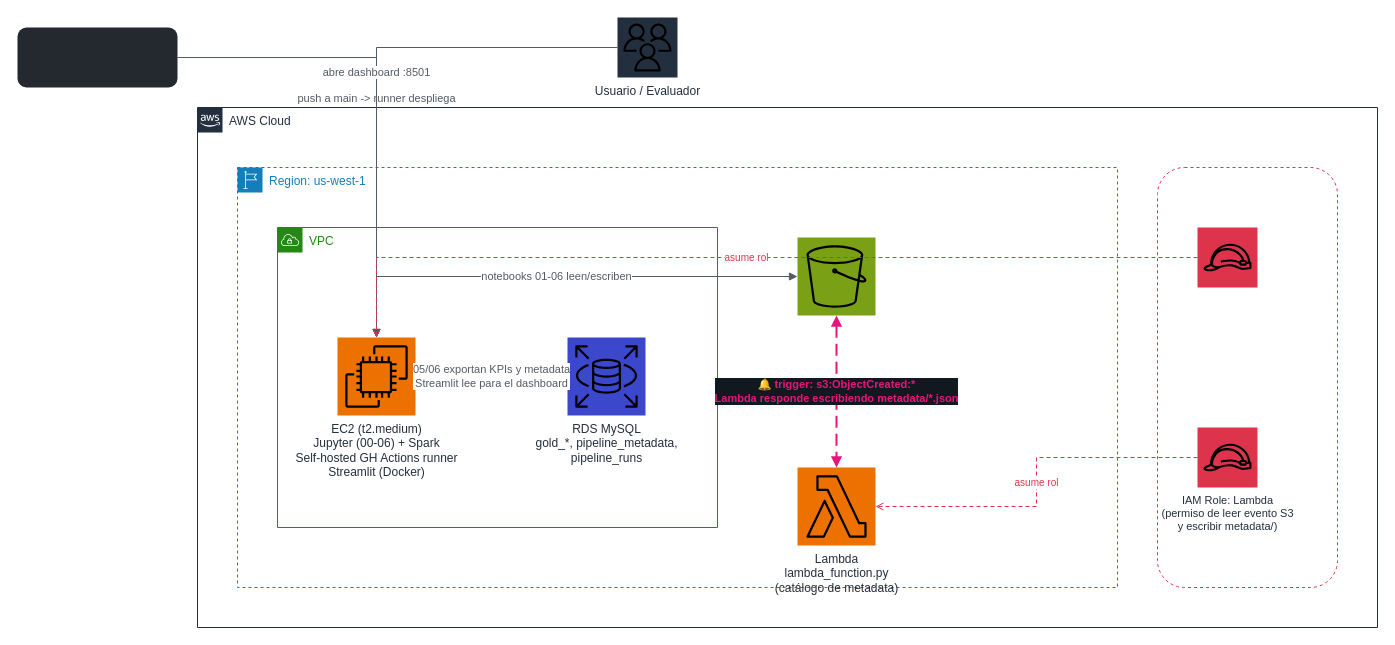
The diagram is 1395 pixels wide and 645 high, and some of its shapes have lost their labels. The box of each missing label's shape, as (x1, y1, x2, y2) in pixels:
GitHub (repo privado Streamlit): (17, 27, 177, 87)
IAM (servicio global -- no es regional): (1156, 166, 1338, 588)
IAM Role: EC2 (permiso de leer/escribir en S3 + conectar a RDS): (1197, 227, 1257, 287)
S3 raw_data / clean_data / gold_data / metadata: (797, 237, 875, 315)
